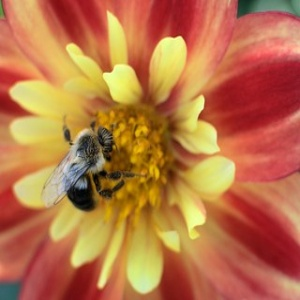bee: (39, 112, 149, 234)
